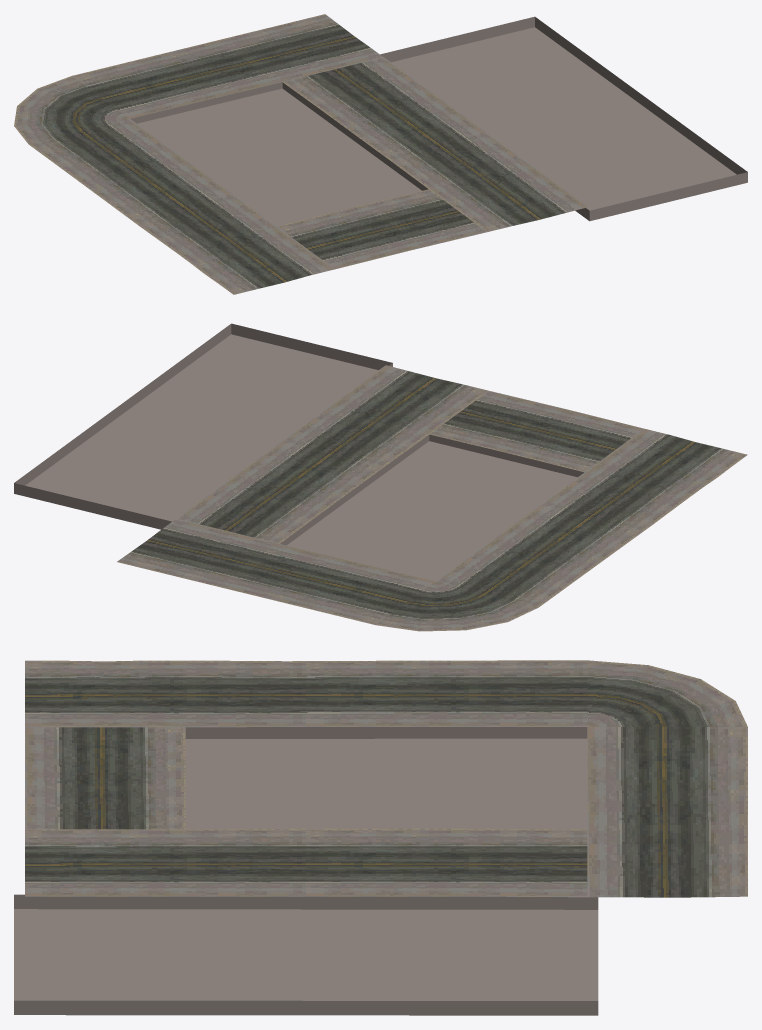
Rendered from lodcunte_roads88.obj.
The picture shows the model from 3 angles, top to bottom: view 1: azimuth 30°, elevation 25°; view 2: azimuth 150°, elevation 25°; view 3: azimuth 270°, elevation 25°; orthographic projection. The views are drawn at different scales.
Parts seen in each view (by area): view 1: LODcunte_roads88; view 2: LODcunte_roads88; view 3: LODcunte_roads88.
Boxes of the visible parts, <box> form: LODcunte_roads88: <box>14,14,747,294</box>; LODcunte_roads88: <box>14,323,747,631</box>; LODcunte_roads88: <box>14,660,747,1015</box>.
Size of the model in its own units: 101 by 2.08 by 91.36.
2 materials, 2 textured.
